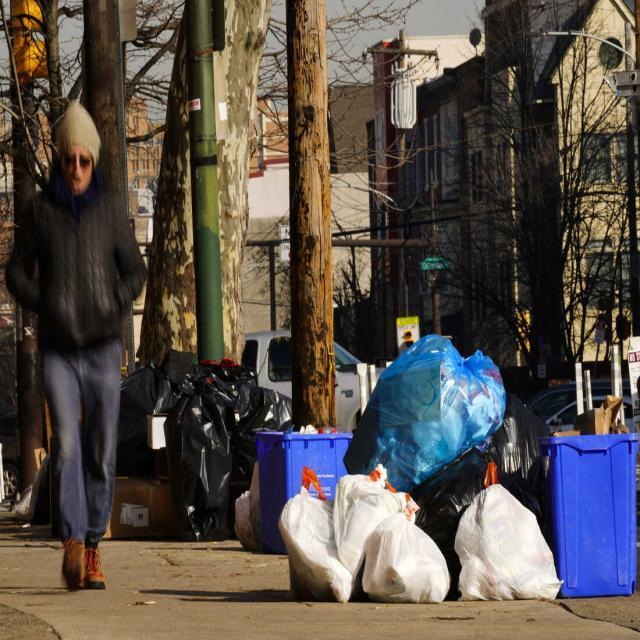Trashbag: (162, 358, 290, 536), (416, 454, 530, 531), (499, 395, 552, 472)
